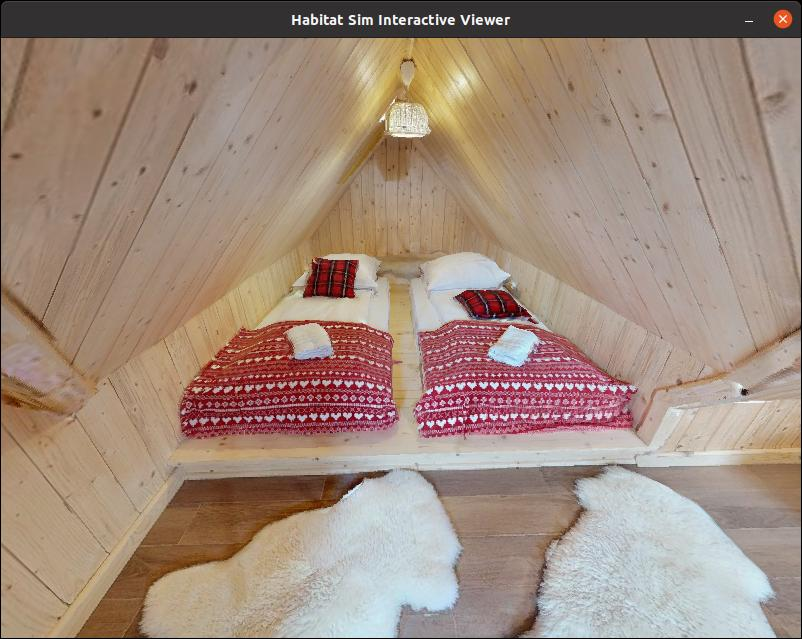bed: (410, 221, 643, 487), (198, 243, 407, 466)
